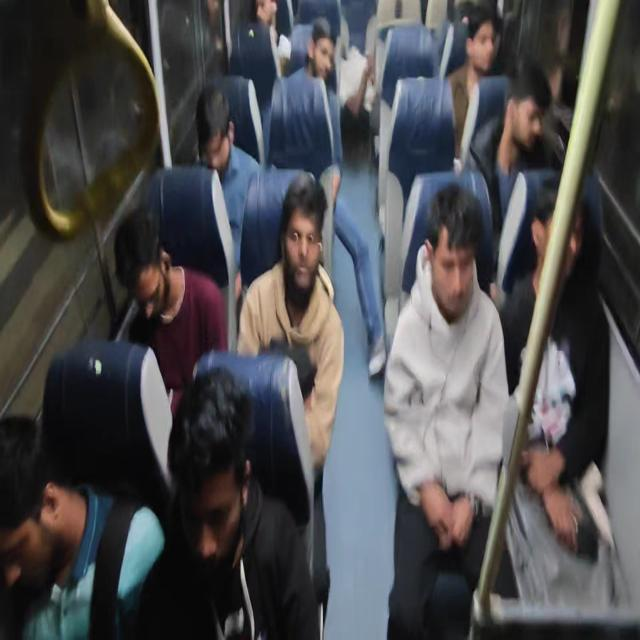person: (165, 344, 276, 602), (409, 183, 529, 374), (521, 174, 626, 371), (0, 438, 90, 640), (92, 204, 196, 369), (266, 154, 352, 309), (507, 62, 597, 198), (193, 78, 256, 176), (331, 21, 380, 118), (245, 0, 310, 59), (455, 0, 504, 78), (305, 22, 348, 76)
